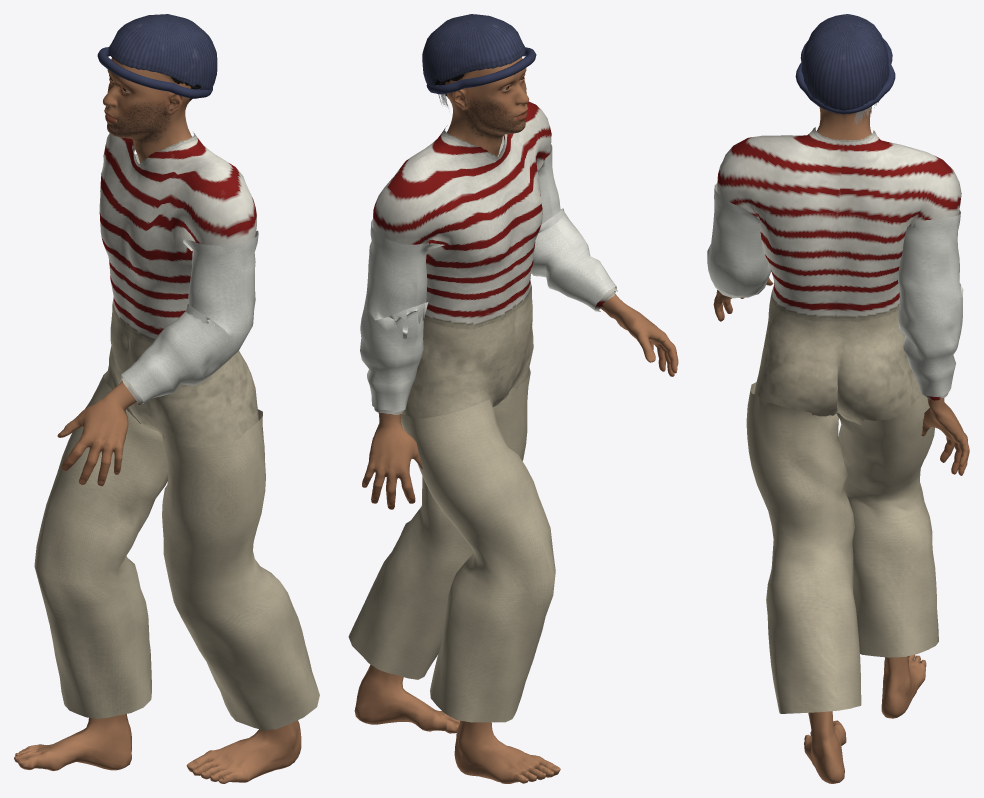
The model's file is SM_Art_Person_sailor.gltf.
3 views of the same model, side by side, from view 1: azimuth 30°, elevation 25°; view 2: azimuth 150°, elevation 25°; view 3: azimuth 270°, elevation 25° (orthographic). The views are drawn at different scales.
Visible parts, largest first — view 1: SM_Art_Person_sailor; view 2: SM_Art_Person_sailor; view 3: SM_Art_Person_sailor.
Boxes of the visible parts, x1,y1,x2,y2 form: SM_Art_Person_sailor: [14, 14, 319, 783]; SM_Art_Person_sailor: [348, 14, 678, 783]; SM_Art_Person_sailor: [707, 14, 969, 783].
Size of the model in its own units: 0.6912 by 1.73 by 0.5833.
Materials: 12 (12 with a texture image).
